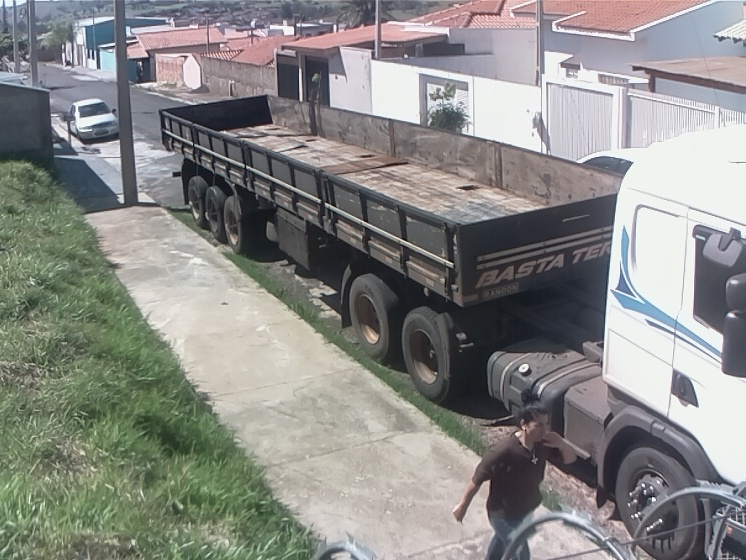person: (451, 385, 580, 560)
